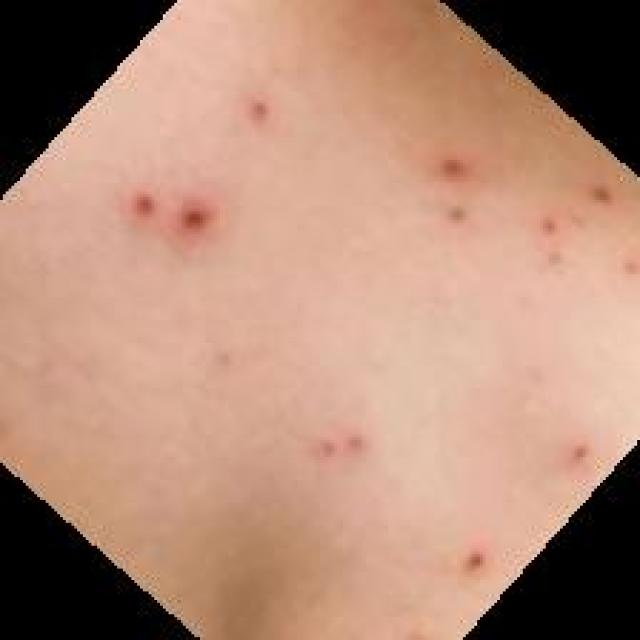monkeypox: (77, 72, 640, 577)
